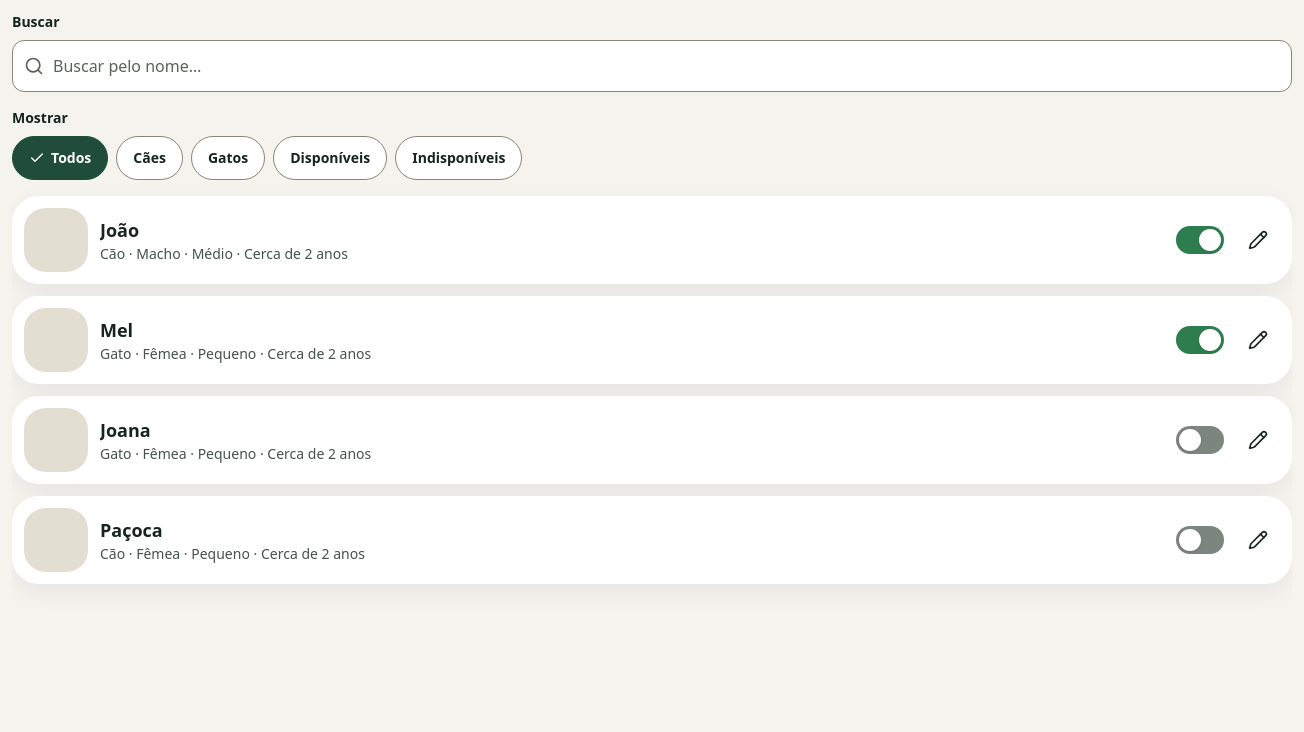
AnimalList › nenhum resultado mostra "Nenhum animal encontrado."
The image size is (1304, 732).
Type "rex" into the search field labelled "Buscar". click: (652, 66)
box: [12,40,1292,92]
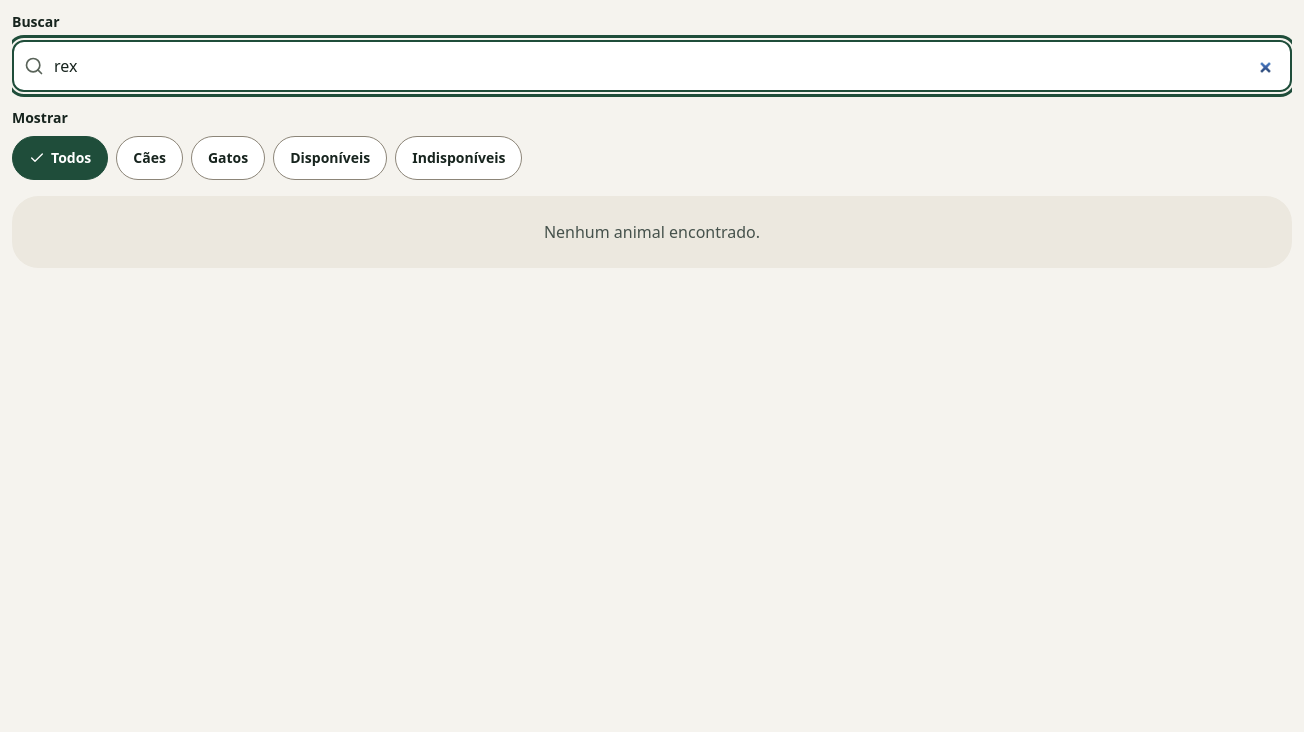
Result: the list is gone
Result: the text "Nenhum animal encontrado." is shown at [12,196,1292,268]
